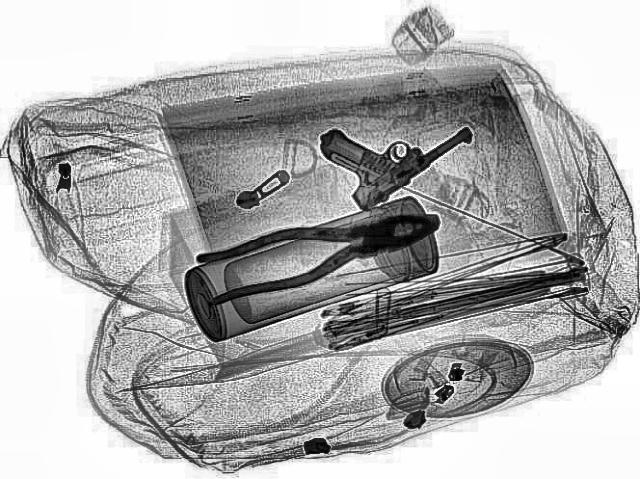Gun: (284, 79, 480, 211)
Pliers: (181, 193, 453, 308)
